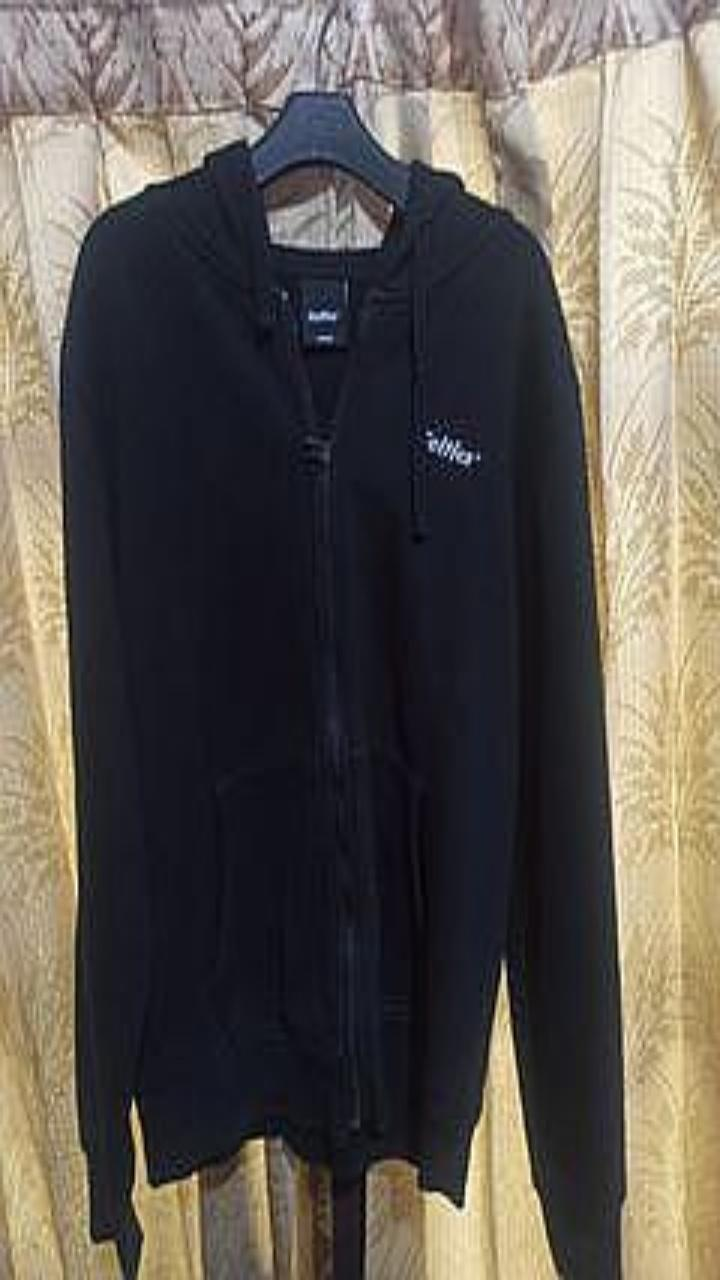Sports_Jacket: (60, 137, 625, 1279)
